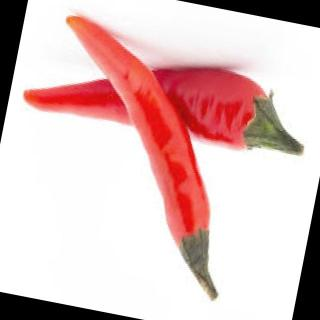Cabai Merah: (1, 48, 241, 304)
